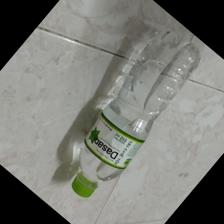Dasani: (72, 23, 202, 198)
